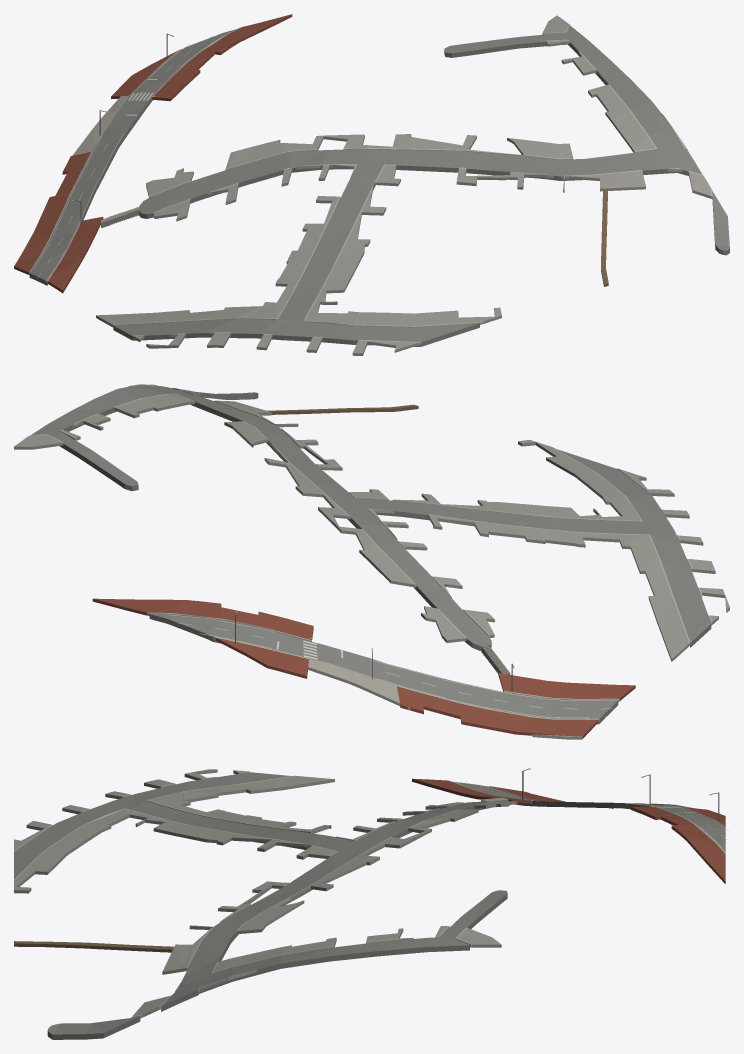
3 views of the same model, one above another, from view 1: azimuth 30°, elevation 25°; view 2: azimuth 150°, elevation 25°; view 3: azimuth 270°, elevation 25° (orthographic). The views are drawn at different scales.
Bounding box in the file's own units: 148 × 34.61 × 147.
